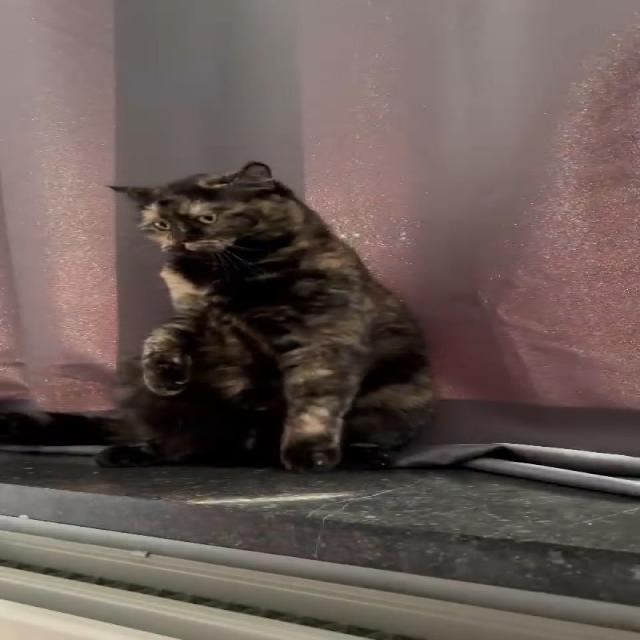authorized: (96, 160, 437, 473)
